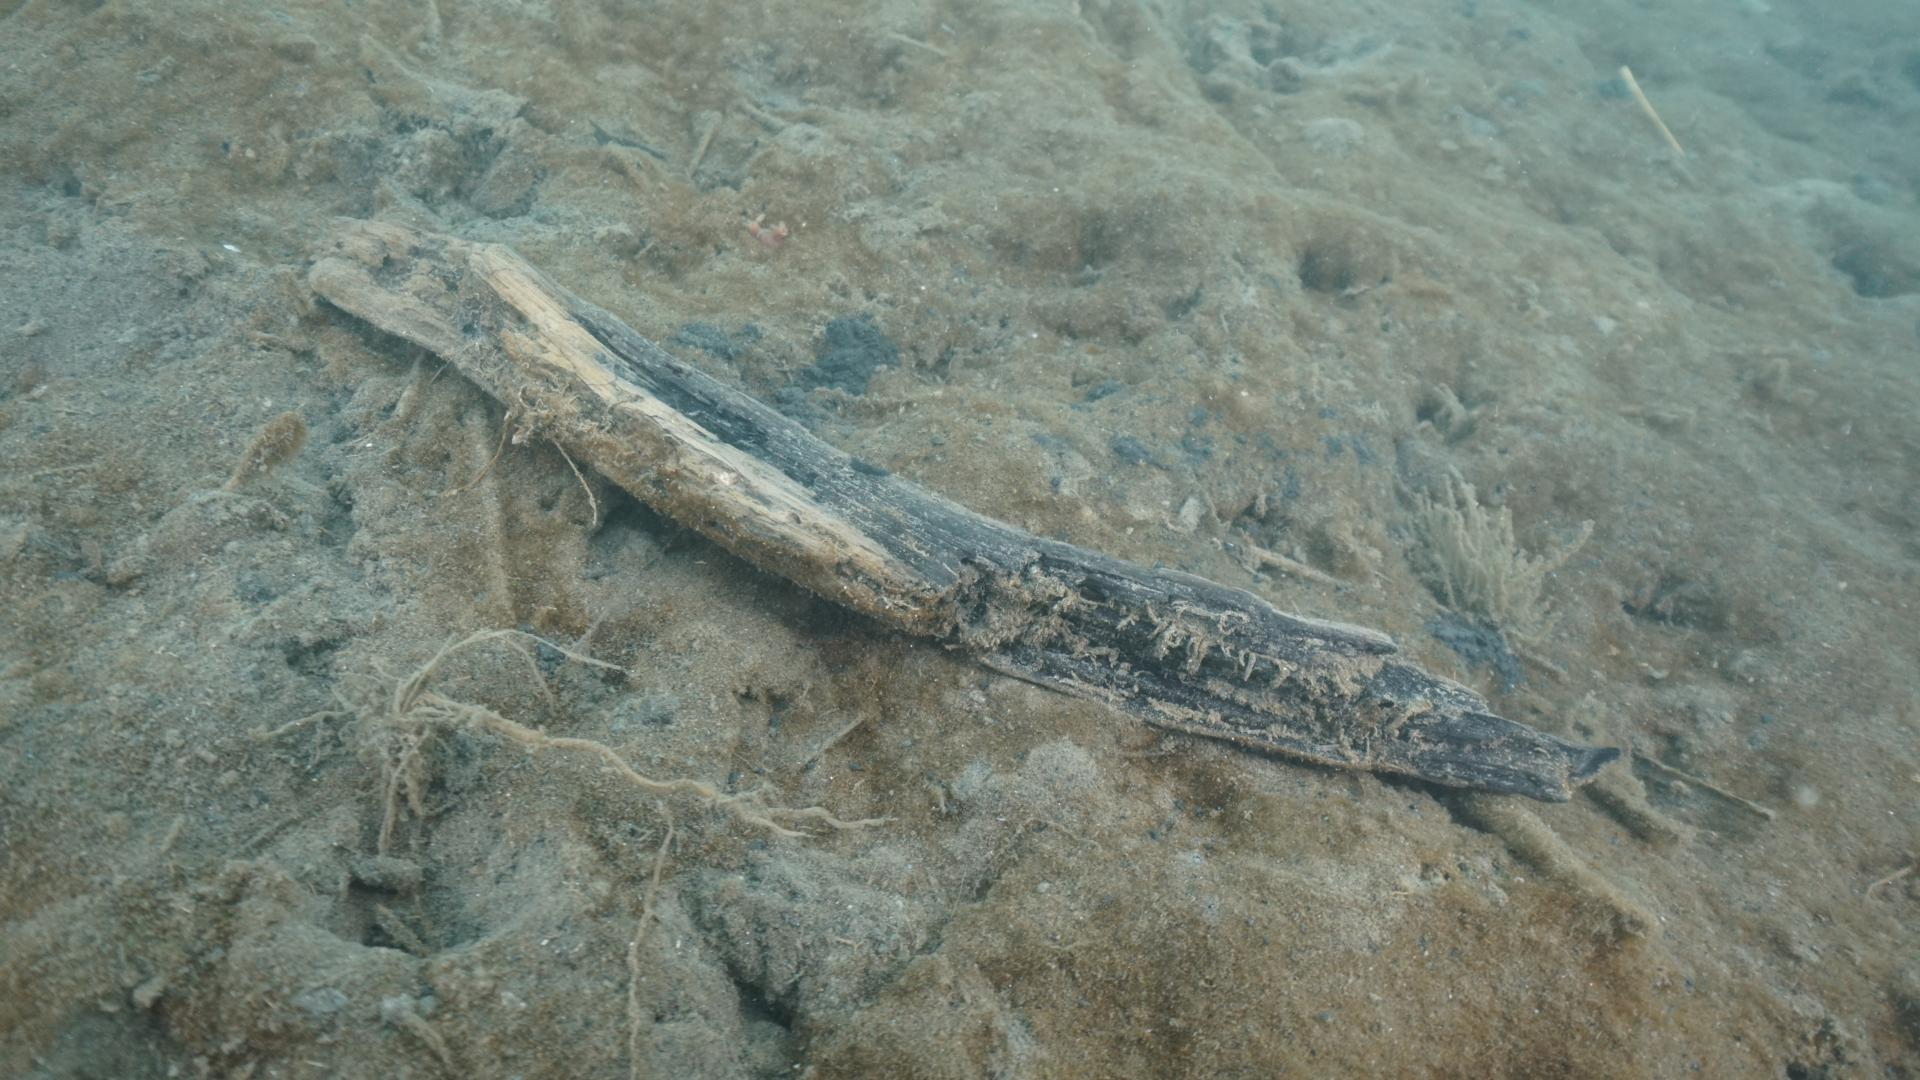wood: (301, 215, 1619, 802)
